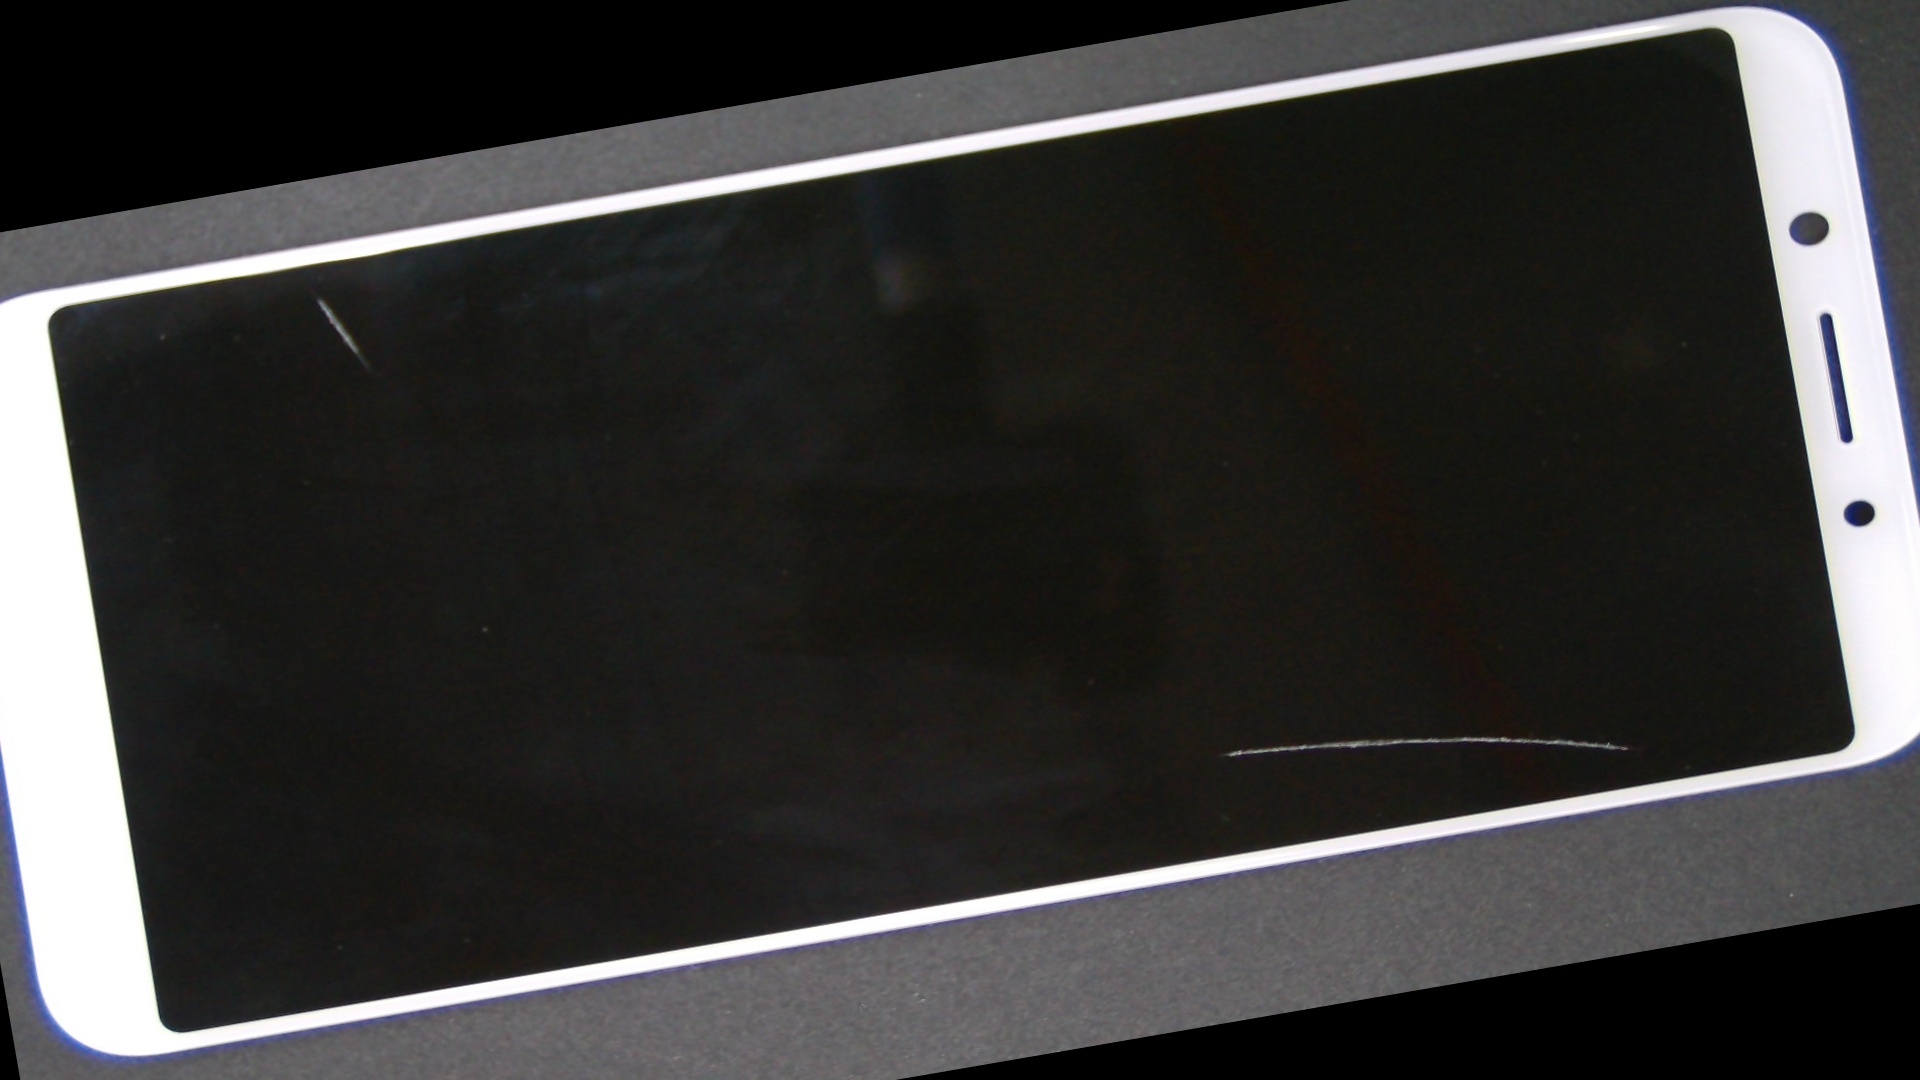oil: (556, 290, 1892, 1080), (99, 203, 539, 392)
